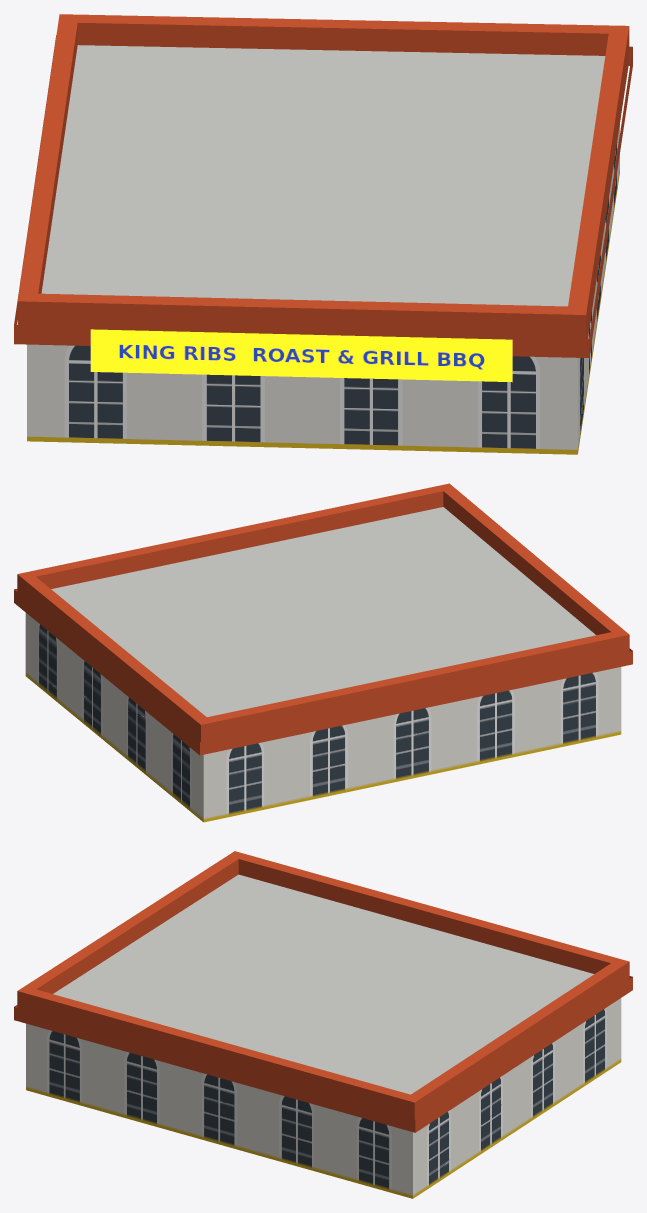
Rendered from kingribs.glb.
3 views of the same model, one above another, from view 1: azimuth 30°, elevation 25°; view 2: azimuth 150°, elevation 25°; view 3: azimuth 270°, elevation 25° (orthographic). The views are drawn at different scales.
Parts seen in each view (by area): view 1: kingribs_lod0; view 2: kingribs_lod0; view 3: kingribs_lod0.
Boxes of the visible parts, left/top/right/bottom form: kingribs_lod0: left=14, top=14, right=632, bottom=454; kingribs_lod0: left=14, top=483, right=632, bottom=822; kingribs_lod0: left=14, top=851, right=632, bottom=1198.
Size of what is drawn, in the model's own units: 24.57 by 4.5 by 25.26.
4 materials, 2 textured.
